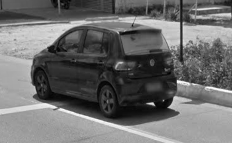car: (30, 21, 178, 120)
